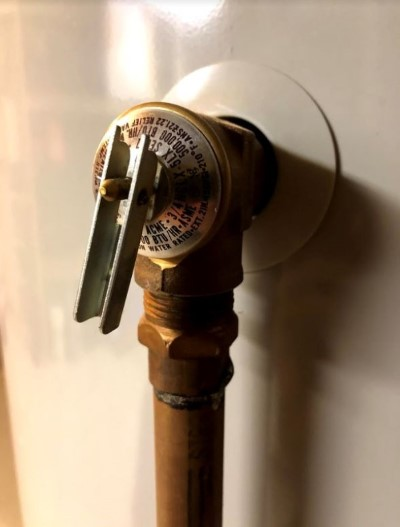Valve: (70, 102, 276, 411)
